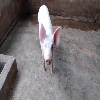heo: (37, 2, 60, 75)
